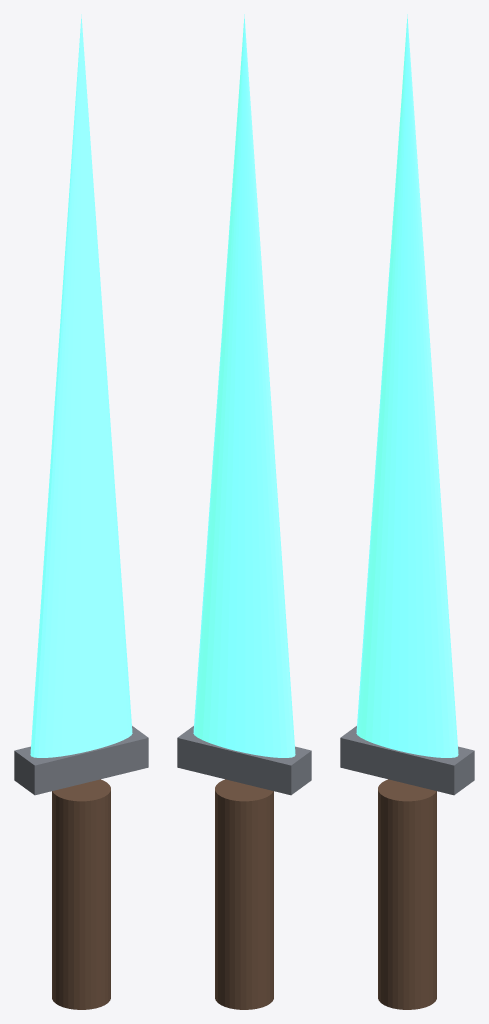
File: weapon_poison_daggers.glb
3 renders of one model, left to right at view 1: azimuth 30°, elevation 25°; view 2: azimuth 150°, elevation 25°; view 3: azimuth 330°, elevation 25°, orthographic.
Visible parts, largest first — view 1: Cone, Cylinder, Cube; view 2: Cone, Cylinder, Cube; view 3: Cone, Cylinder, Cube.
Boxes of the visible parts, bbox=[...] form: Cone: bbox=[30, 14, 132, 757]; Cylinder: bbox=[52, 779, 110, 1009]; Cube: bbox=[14, 726, 148, 795]; Cone: bbox=[193, 14, 295, 757]; Cylinder: bbox=[215, 779, 273, 1009]; Cube: bbox=[177, 726, 311, 795]; Cone: bbox=[356, 14, 458, 757]; Cylinder: bbox=[378, 779, 436, 1009]; Cube: bbox=[340, 726, 474, 795].
Size of the model in its own units: 0.08 by 0.66 by 0.036.
